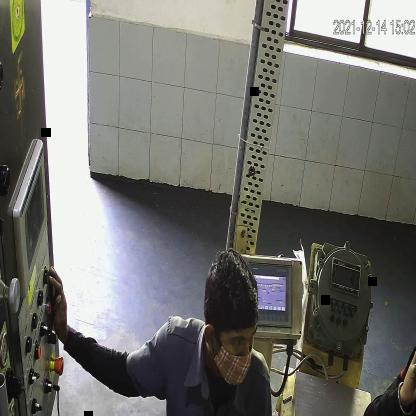no_goggles: (218, 324, 258, 358)
